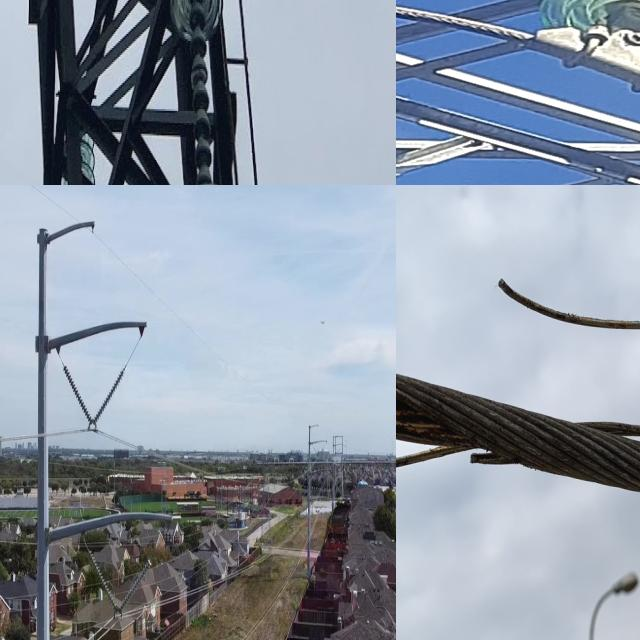杆塔: (4, 0, 299, 185), (396, 0, 640, 185)
正常绝缘子: (170, 0, 235, 185), (538, 0, 640, 63), (83, 359, 131, 442), (110, 550, 160, 625), (83, 538, 124, 624), (59, 357, 99, 435)
电缆破损: (396, 260, 640, 529)
绝缘子破损: (188, 58, 210, 90), (187, 30, 209, 60), (187, 6, 209, 35), (191, 86, 211, 115), (193, 145, 213, 173), (191, 117, 212, 143)
